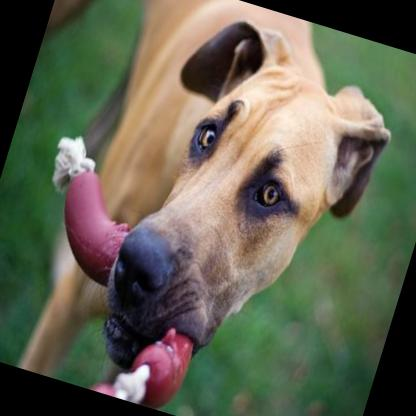Great_Dane: (0, 0, 414, 416)
